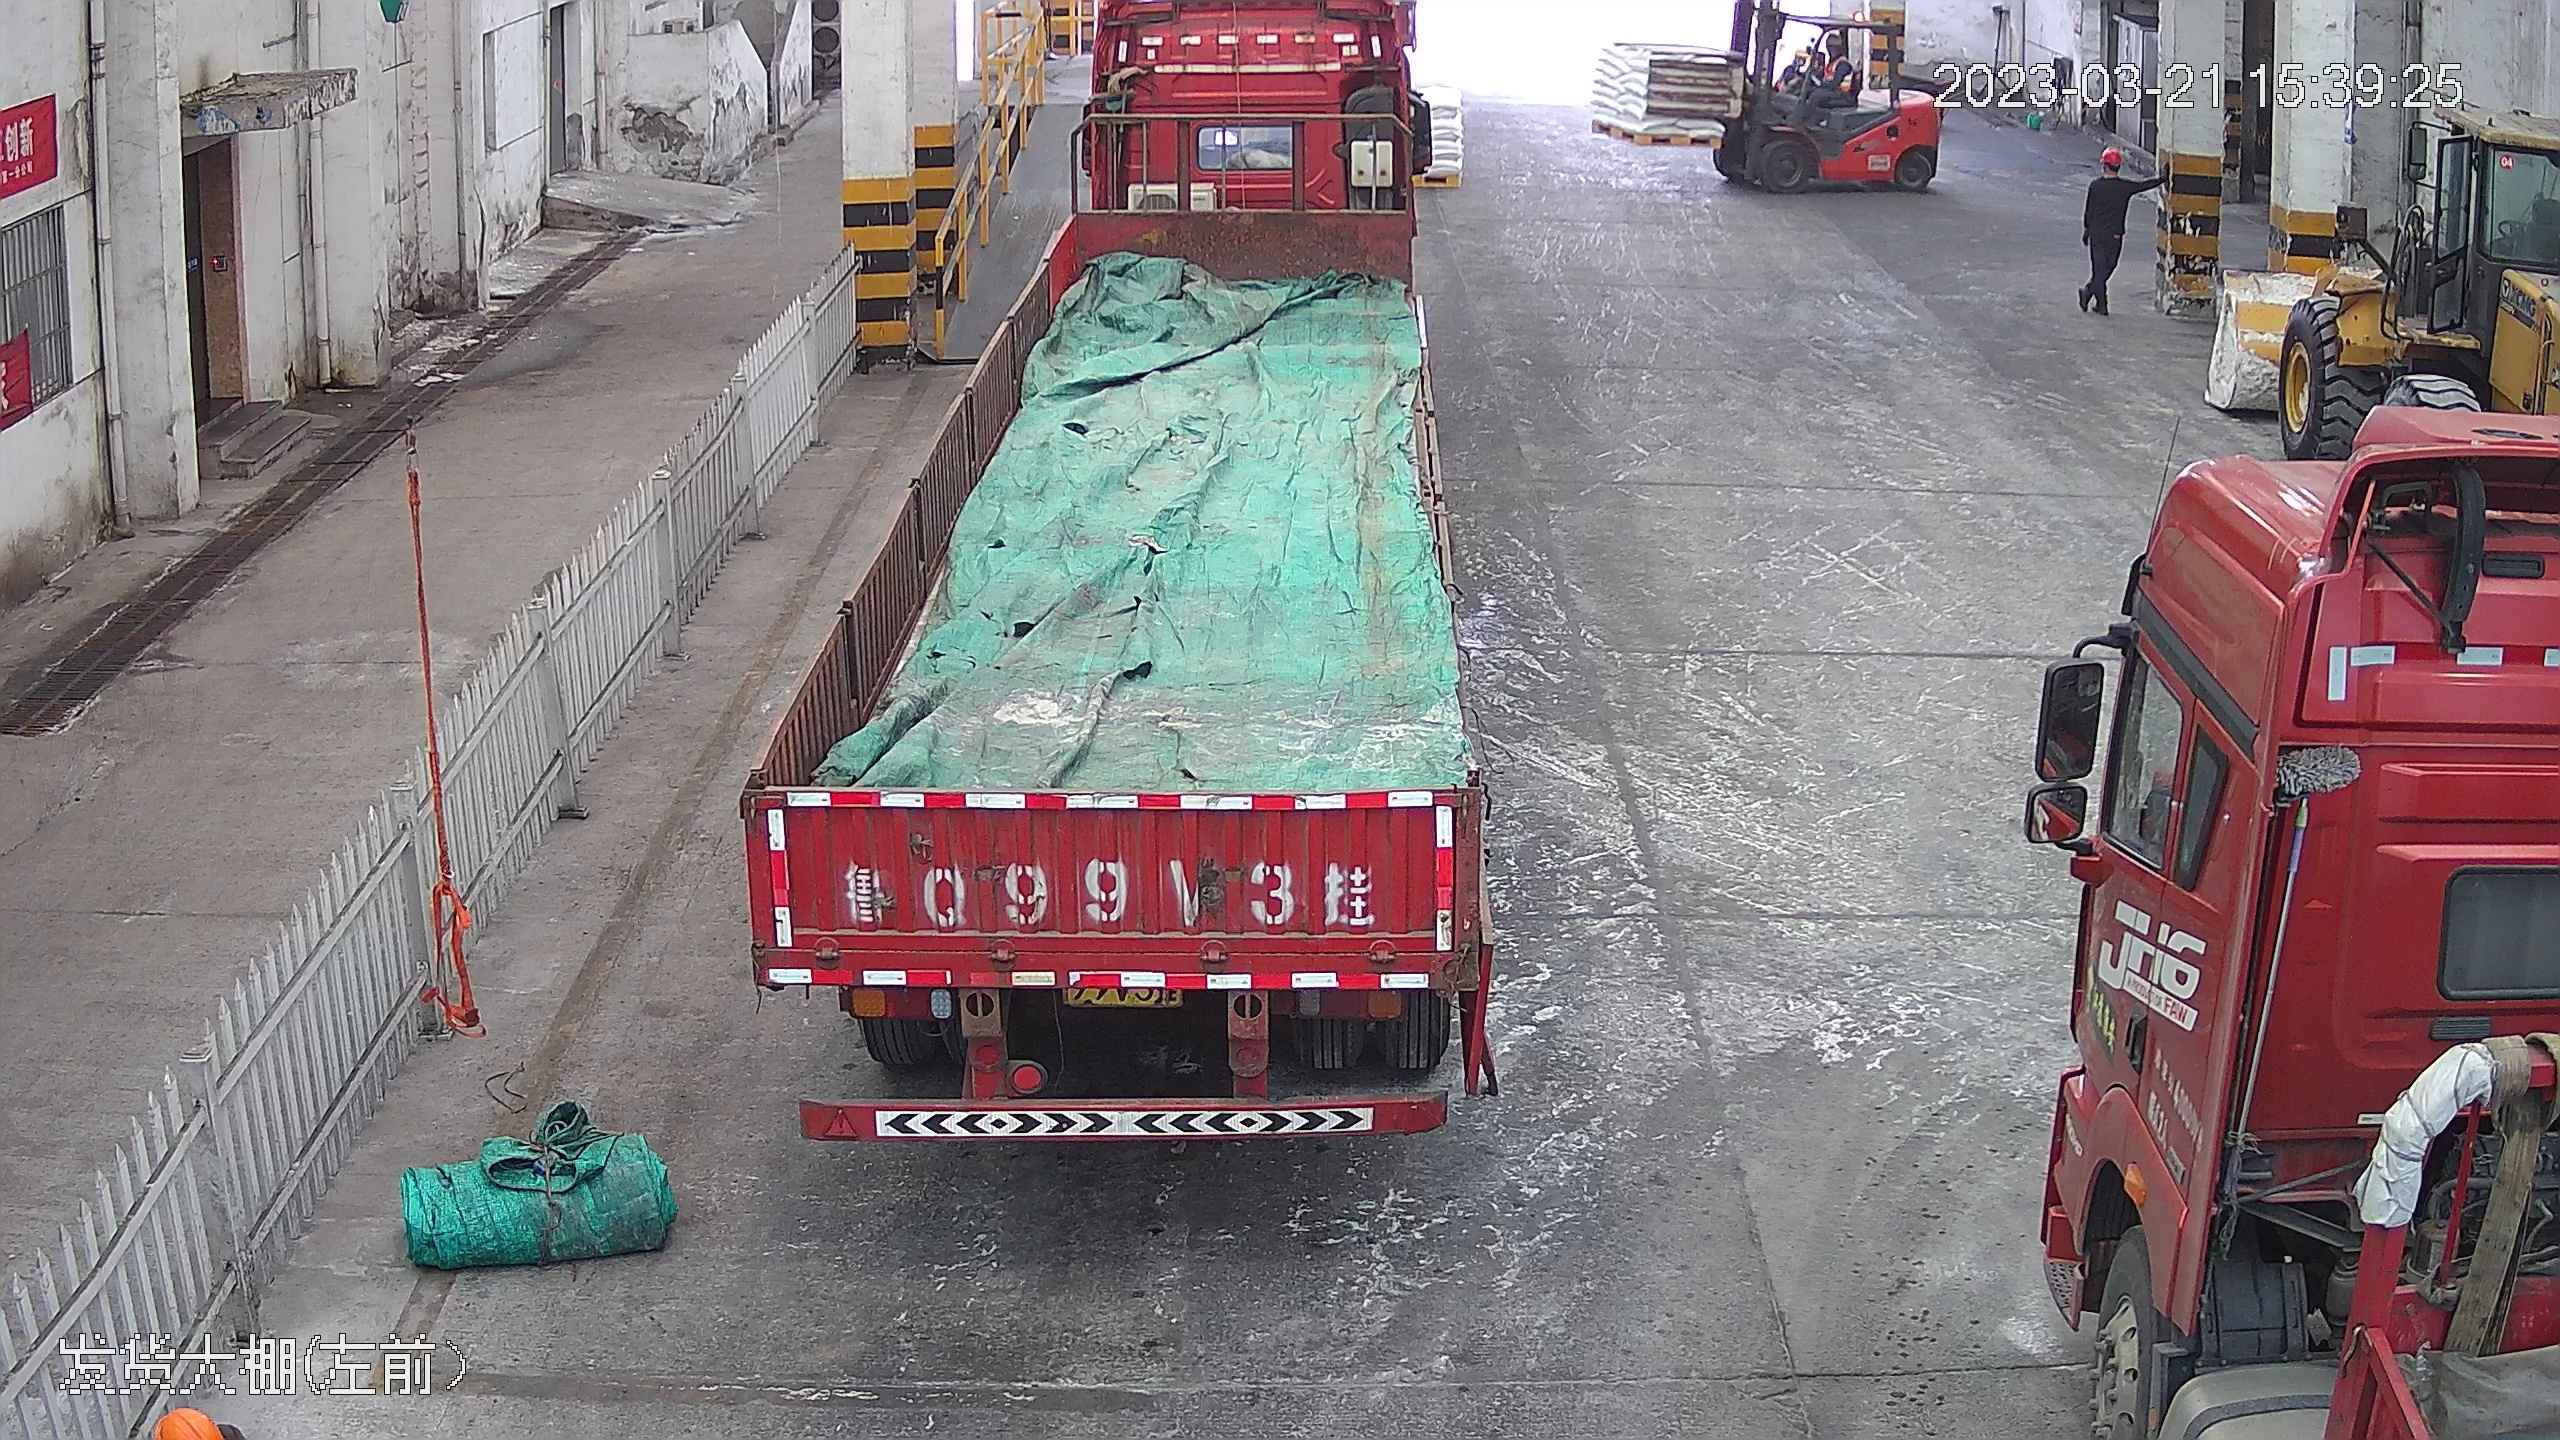head: (2085, 143, 2133, 198)
helmet: (152, 1403, 219, 1440), (2099, 144, 2126, 165)
people: (2074, 143, 2136, 316)
truck: (749, 1, 1489, 1147), (2023, 390, 2560, 1439)
